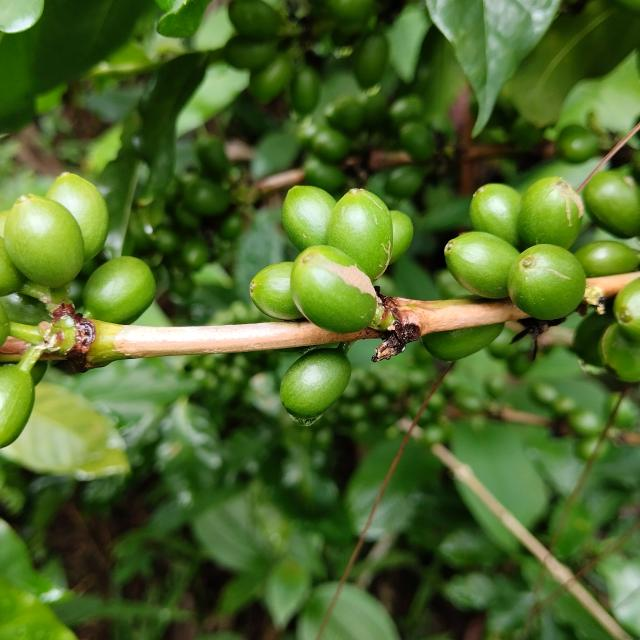green: (290, 245, 377, 333), (3, 194, 83, 288), (328, 188, 393, 281), (508, 244, 587, 320), (280, 347, 351, 427), (45, 172, 108, 260), (445, 231, 521, 298), (82, 256, 155, 324), (518, 176, 585, 249), (282, 185, 336, 251), (470, 183, 522, 246), (422, 323, 505, 362), (249, 262, 304, 320), (0, 366, 34, 449), (575, 240, 640, 277), (614, 278, 640, 342), (389, 210, 414, 264)
